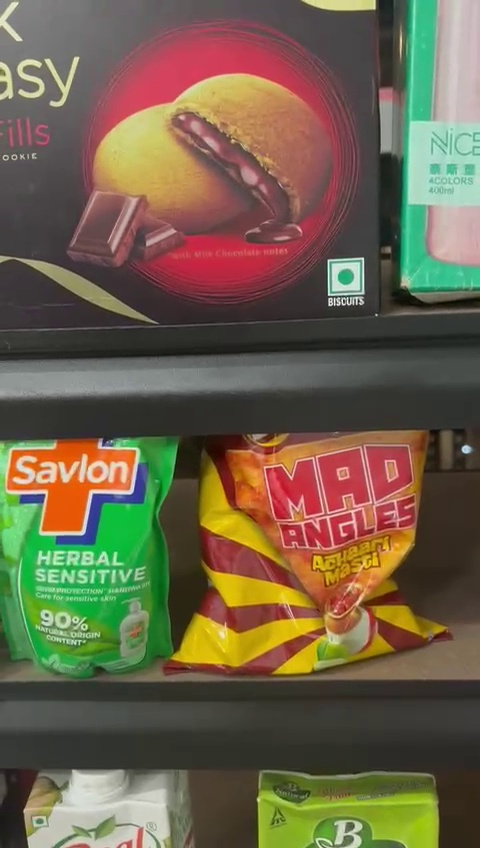Bingo Mad Angles: (184, 435, 445, 672)
